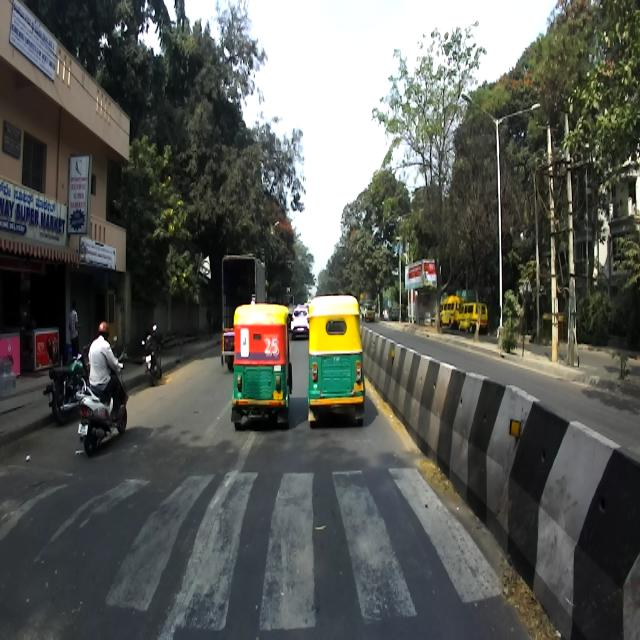auto ahead at: (228, 306, 292, 426), (306, 298, 365, 424)
motorcycle ahead at: (79, 373, 129, 458)
